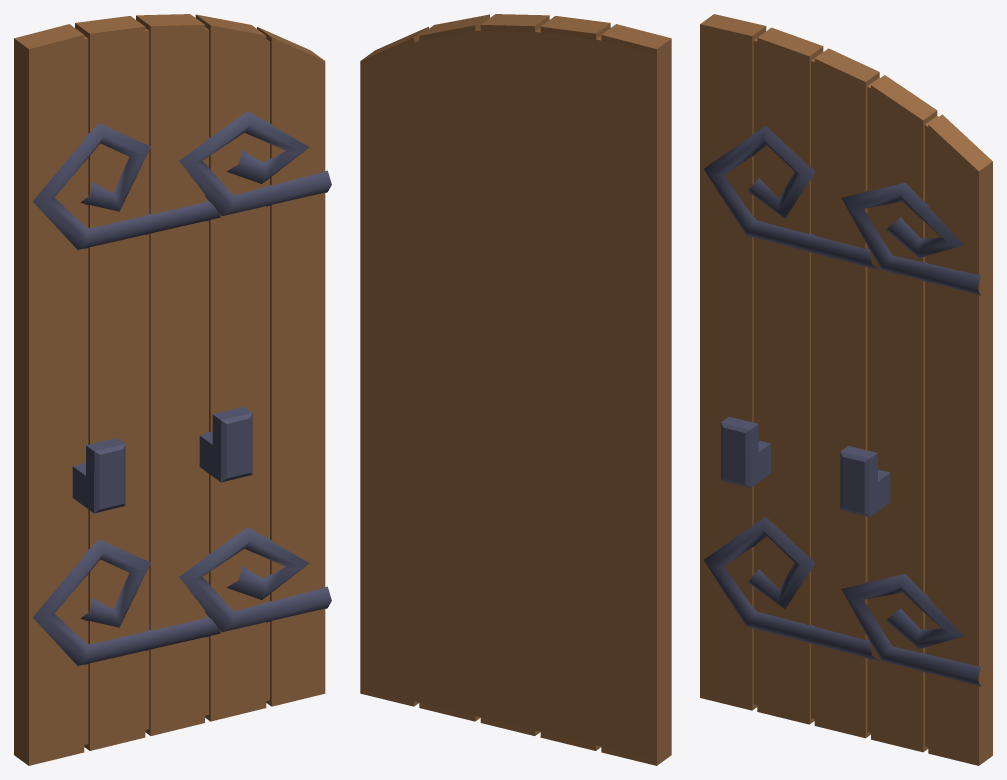
Rendered from DoubleDoorLeft.fbx.
The picture shows the model from 3 angles, left to right: view 1: azimuth 30°, elevation 25°; view 2: azimuth 150°, elevation 25°; view 3: azimuth 330°, elevation 25°; orthographic projection. The views are drawn at different scales.
Visible parts, largest first — view 1: DoubleDoorLeft; view 2: DoubleDoorLeft; view 3: DoubleDoorLeft.
Boxes of the visible parts, left/top/right/bottom form: DoubleDoorLeft: left=14, top=14, right=331, bottom=765; DoubleDoorLeft: left=360, top=14, right=671, bottom=765; DoubleDoorLeft: left=700, top=14, right=992, bottom=765.
Bounding box in the file's own units: 146 × 336 × 32.2.
